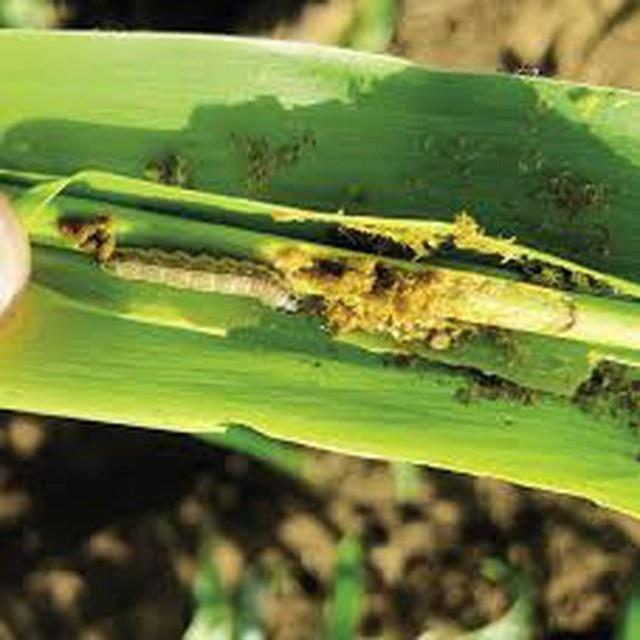gusano_cogollero: (105, 245, 298, 312)
